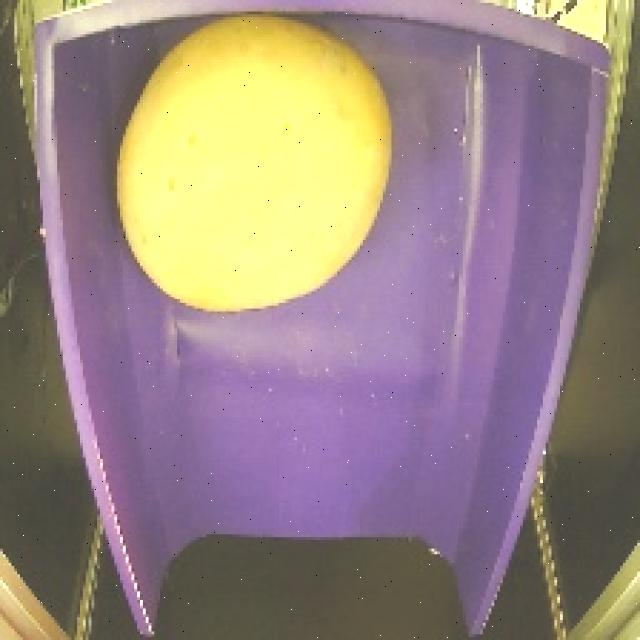full_potato: (107, 27, 410, 328)
